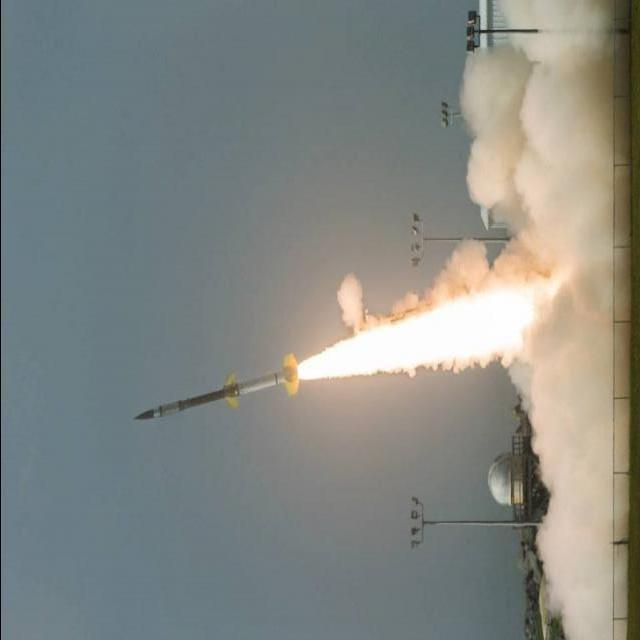missile: (135, 353, 300, 423)
